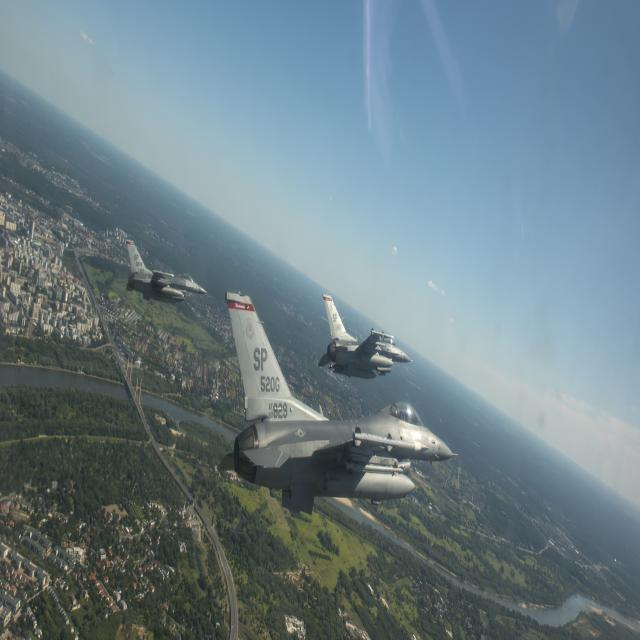MIL_Plane: (216, 290, 458, 514), (304, 293, 427, 380), (126, 239, 209, 303)
